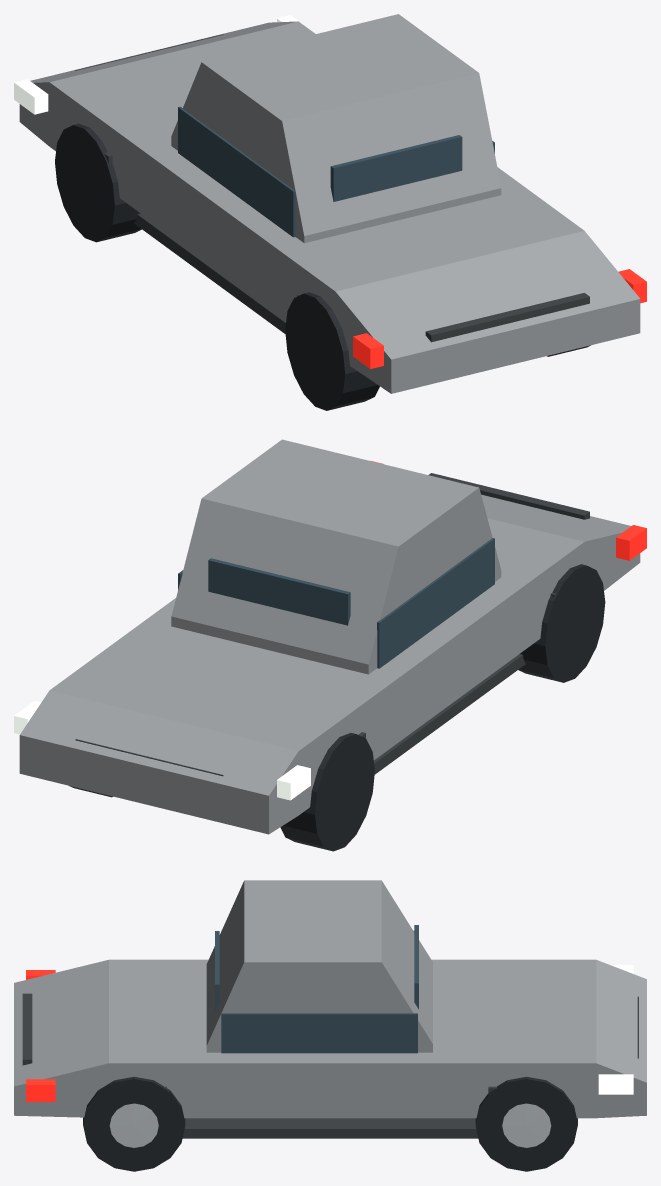
The model's file is toyota-alphard-luxury.glb.
3 renders of one model, top to bottom at view 1: azimuth 30°, elevation 25°; view 2: azimuth 150°, elevation 25°; view 3: azimuth 270°, elevation 25°, orthographic. The views are drawn at different scales.
Parts seen in each view (by area): view 1: toyota-alphard-luxury illustrative model; view 2: toyota-alphard-luxury illustrative model; view 3: toyota-alphard-luxury illustrative model.
Part boxes in pixels (x1,y1,x2,y2): toyota-alphard-luxury illustrative model: [14, 14, 646, 410]; toyota-alphard-luxury illustrative model: [14, 439, 646, 851]; toyota-alphard-luxury illustrative model: [14, 880, 646, 1171].
Size of the model in its own units: 2.02 by 1.61 by 4.7.
